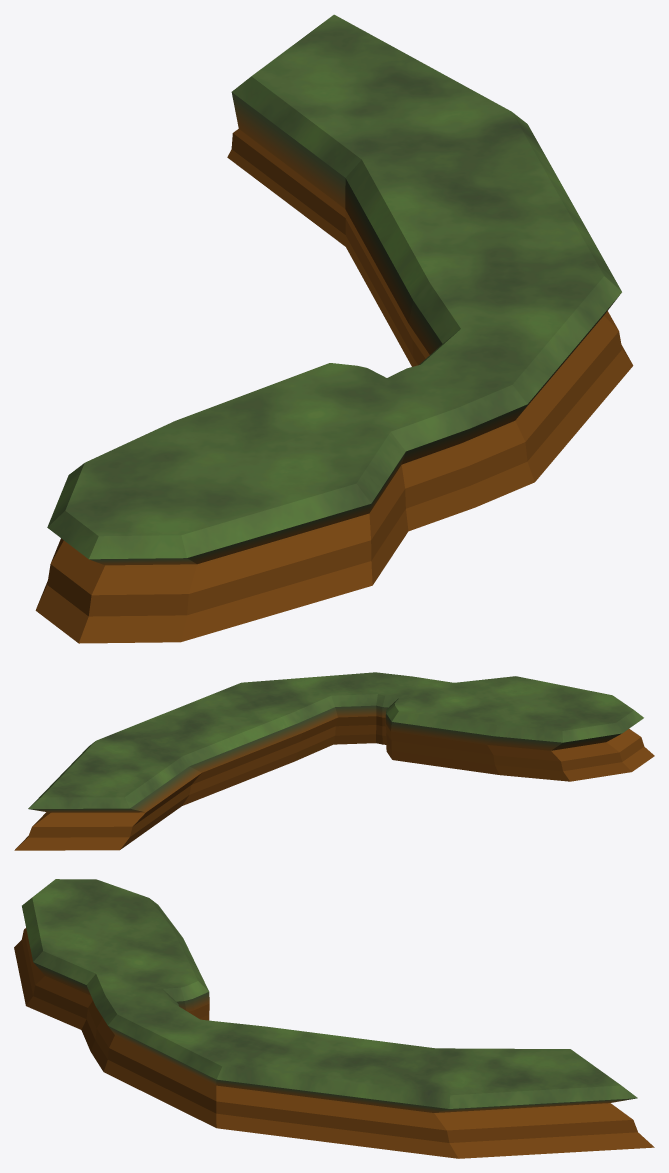
File: E3_Terreno_Lvl1_T.fbx
3 views of the same model, one above another, from view 1: azimuth 30°, elevation 25°; view 2: azimuth 150°, elevation 25°; view 3: azimuth 270°, elevation 25° (orthographic). The views are drawn at different scales.
Parts seen in each view (by area): view 1: E3_modelosBlockout_nivel1; view 2: E3_modelosBlockout_nivel1; view 3: E3_modelosBlockout_nivel1.
Part boxes in pixels (<box>): E3_modelosBlockout_nivel1: <box>35,14,633,643</box>; E3_modelosBlockout_nivel1: <box>14,672,654,850</box>; E3_modelosBlockout_nivel1: <box>14,879,654,1158</box>.
Size of the model in its own units: 11078 by 1208 by 12828.
